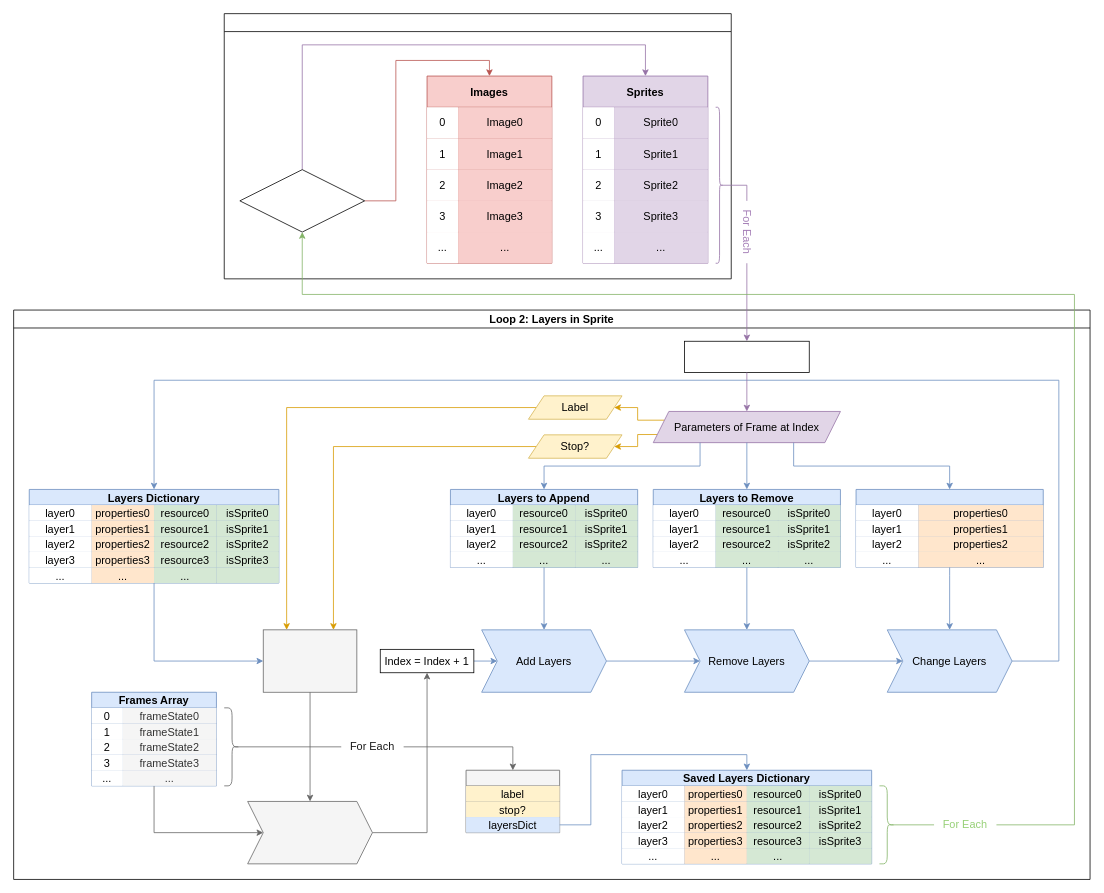
Some shapes in this 1104 by 893 pixel diagram are drawn without their labels. The shapes that lost their labels are listed below. From the top down, each one's box as (x1, y1, x2, y2) in pixels, then its label:
(223, 13, 731, 279): Loop 1: Resources in Layer
(239, 169, 365, 232): is True?
(684, 340, 809, 372): Set Index to 0
(855, 489, 1043, 567): Layers to Change
(262, 629, 357, 692): Save to Frame State
(465, 769, 560, 833): Frame State
(247, 801, 372, 864): Add Frame State
